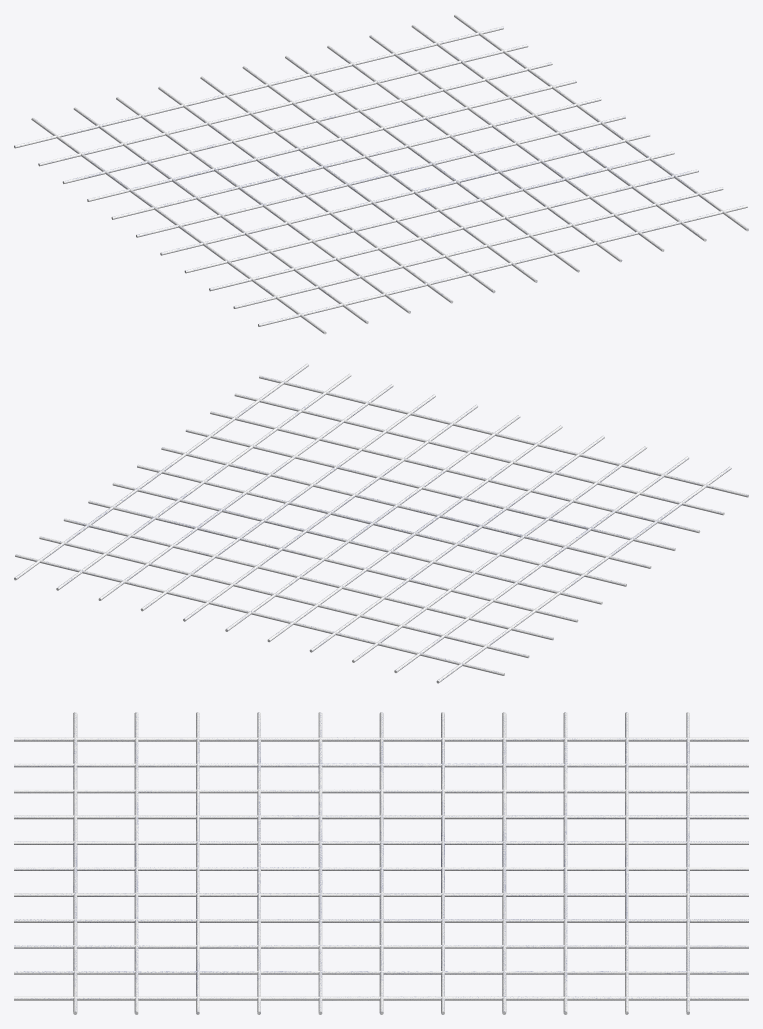
The model's file is net.dae.
3 renders of one model, top to bottom at view 1: azimuth 30°, elevation 25°; view 2: azimuth 150°, elevation 25°; view 3: azimuth 270°, elevation 25°, orthographic. The views are drawn at different scales.
Parts seen in each view (by area): view 1: _1_copy_009, _1_copy_003, _1_copy_008, _1_copy_004, _1_copy_006, instance_1, _1_copy_002, _1_copy_005, _1_copy_001, _1_copy_010, _1_copy_007, _2_copy_001 (+10 smaller); view 2: _1_copy_009, _1_copy_004, instance_1, _1_copy_005, _1_copy_003, _1_copy_010, _1_copy_007, _1_copy_006, _1_copy_001, _1_copy_008, _1_copy_002, _2_copy_003 (+10 smaller); view 3: instance_2, _2_copy_010, _2_copy_001, _2_copy_002, _2_copy_003, _2_copy_004, _2_copy_005, _2_copy_007, _2_copy_008, _2_copy_006, _2_copy_009, _1_copy_005 (+10 smaller).
Boxes of the visible parts, x1,y1,x2,y2 form: _1_copy_009: (38, 44, 528, 166); _1_copy_003: (184, 151, 674, 273); _1_copy_008: (62, 62, 552, 183); _1_copy_004: (160, 133, 650, 255); _1_copy_006: (111, 97, 601, 219); instance_1: (258, 205, 747, 326); _1_copy_002: (209, 169, 698, 291); _1_copy_005: (136, 115, 625, 237); _1_copy_001: (233, 187, 723, 308); _1_copy_010: (14, 26, 503, 148); _1_copy_007: (87, 80, 576, 201); _2_copy_001: (73, 107, 368, 323); _1_copy_009: (39, 536, 529, 658); _1_copy_004: (161, 447, 651, 568); instance_1: (259, 375, 748, 497); _1_copy_005: (137, 464, 626, 586); _1_copy_003: (185, 429, 675, 550); _1_copy_010: (15, 554, 504, 675); _1_copy_007: (88, 500, 578, 622); _1_copy_006: (112, 482, 602, 604); _1_copy_001: (234, 393, 724, 515); _1_copy_008: (63, 518, 553, 640); _1_copy_002: (210, 411, 700, 533); _2_copy_003: (309, 435, 604, 652); instance_2: (14, 737, 748, 741); _2_copy_010: (14, 996, 748, 1000); _2_copy_001: (14, 763, 748, 767); _2_copy_002: (14, 789, 748, 793); _2_copy_003: (14, 815, 748, 819); _2_copy_004: (14, 841, 748, 844); _2_copy_005: (14, 867, 748, 870); _2_copy_007: (14, 919, 748, 922); _2_copy_008: (14, 945, 748, 948); _2_copy_006: (14, 893, 748, 896); _2_copy_009: (14, 971, 748, 974); _1_copy_005: (379, 712, 383, 1014).
Size of the model in its own units: 146 by 151 by 0.7874.
